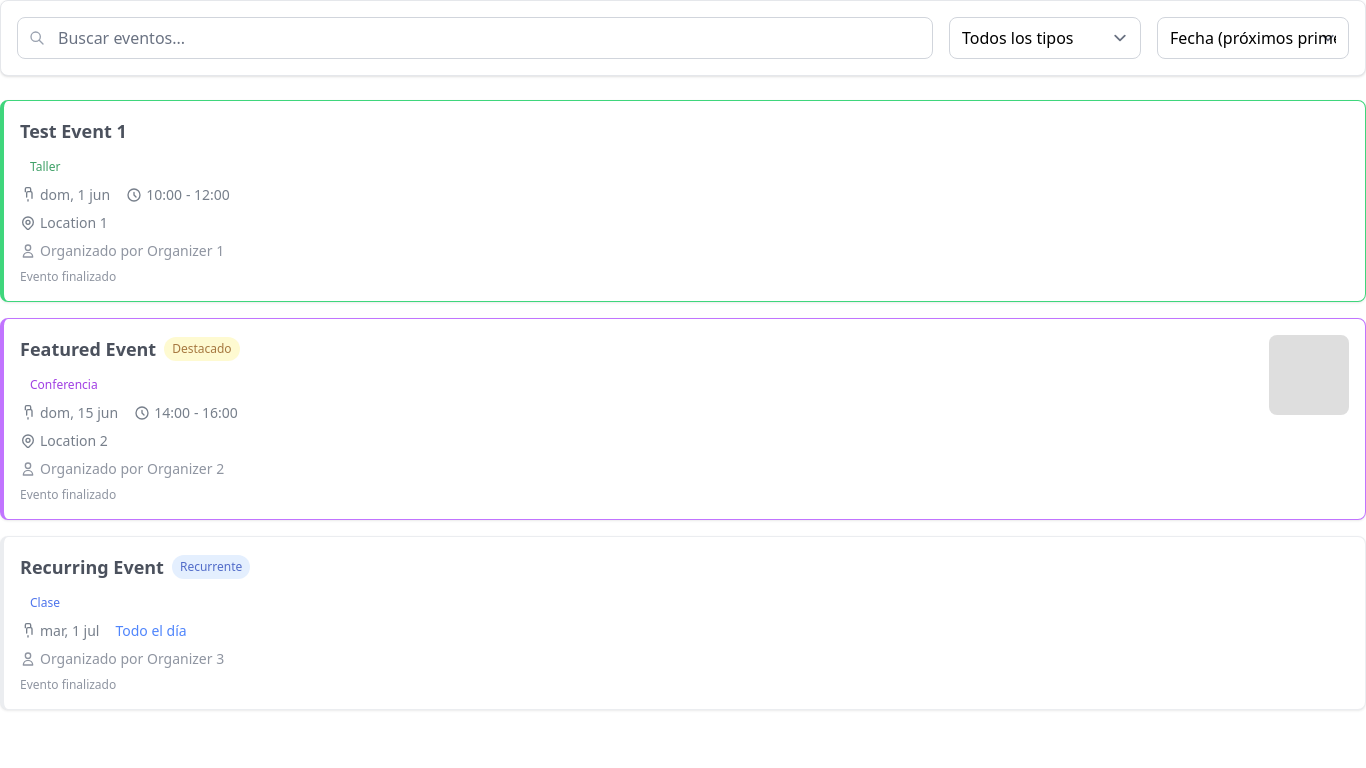
Test case: EventList › Search and Filter › should filter events by type
This screenshot has width=1366, height=768.
Select "Talleres" in the 1st dropdown: (1045, 38) [949,17,1141,59]
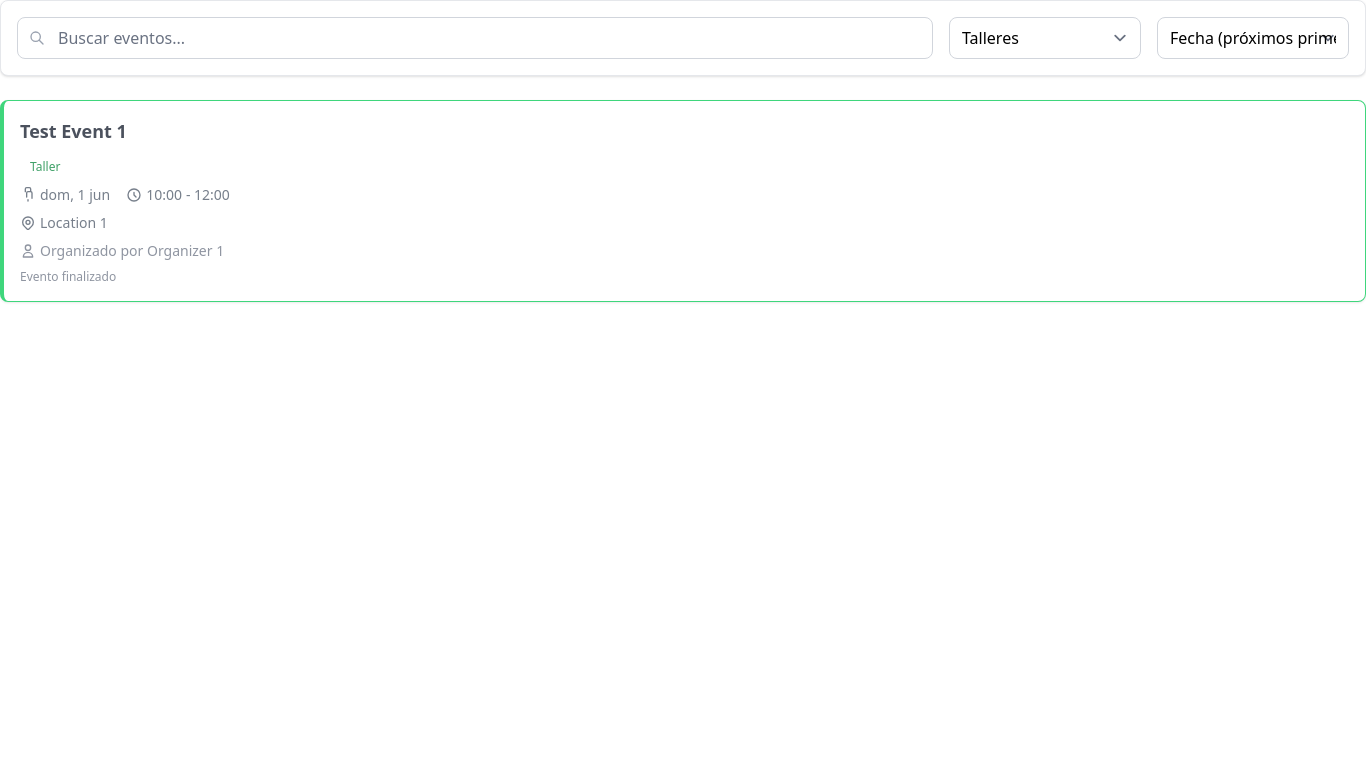
Expected: the heading "Test Event 1" is shown, [20,117,127,145]
Result: the button "Featured Event" is gone
